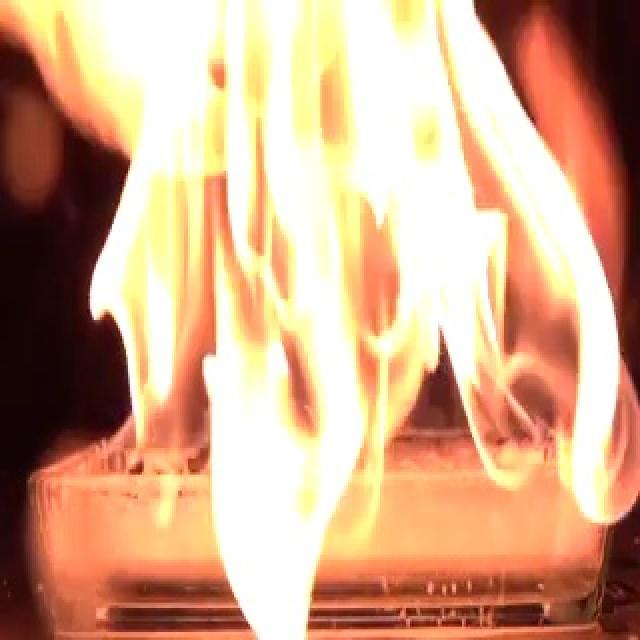Fire: (75, 2, 639, 578)
